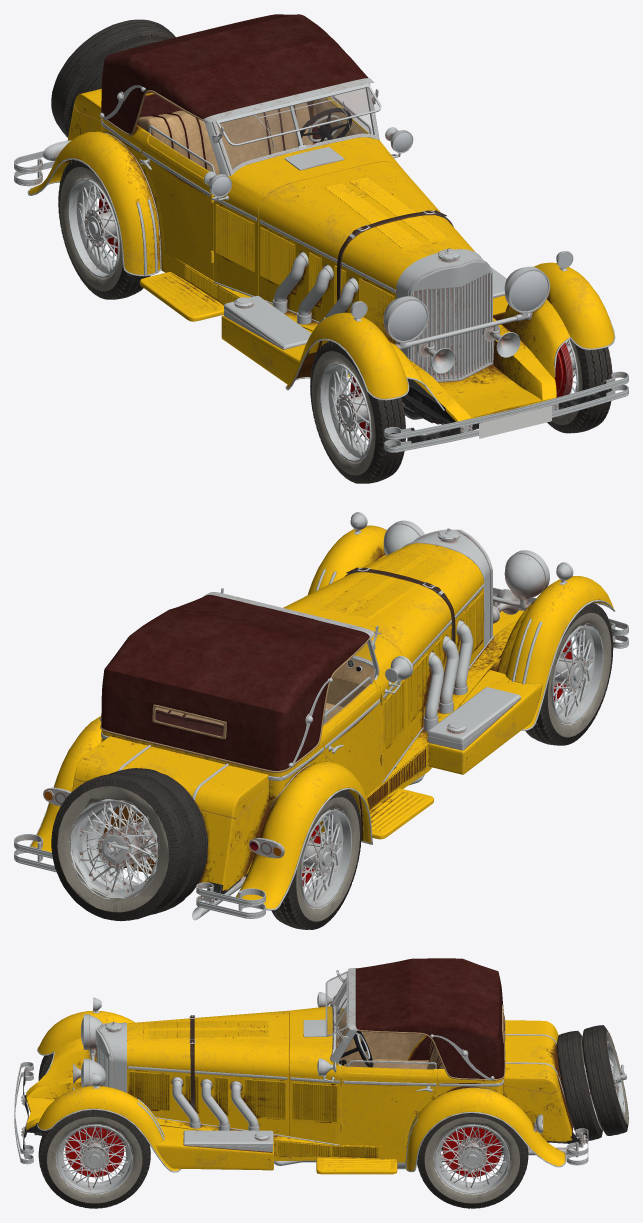
File: mercedes_1928.gltf
3 renders of one model, top to bottom at view 1: azimuth 30°, elevation 25°; view 2: azimuth 150°, elevation 25°; view 3: azimuth 270°, elevation 25°, orthographic. The views are drawn at different scales.
Parts seen in each view (by area): view 1: body, wheel_front_right, wheel_rear_right, wheel_front_left, steering; view 2: body, wheel_front_right, wheel_rear_right; view 3: body, wheel_front_left, wheel_rear_left, steering.
Boxes of the visible parts, bbox=[...] form: body: bbox=[14, 14, 628, 452]; wheel_front_right: bbox=[310, 341, 405, 483]; wheel_rear_right: bbox=[58, 159, 150, 299]; wheel_front_left: bbox=[547, 339, 612, 433]; steering: bbox=[297, 108, 352, 144]; body: bbox=[14, 512, 628, 921]; wheel_front_right: bbox=[525, 602, 613, 745]; wheel_rear_right: bbox=[271, 789, 361, 929]; body: bbox=[14, 958, 628, 1177]; wheel_front_left: bbox=[38, 1110, 150, 1208]; wheel_rear_left: bbox=[417, 1113, 528, 1208]; steering: bbox=[353, 1031, 373, 1067].
Bounding box in the file's own units: 1.69 × 1.56 × 4.8.
18 materials, 13 textured.
